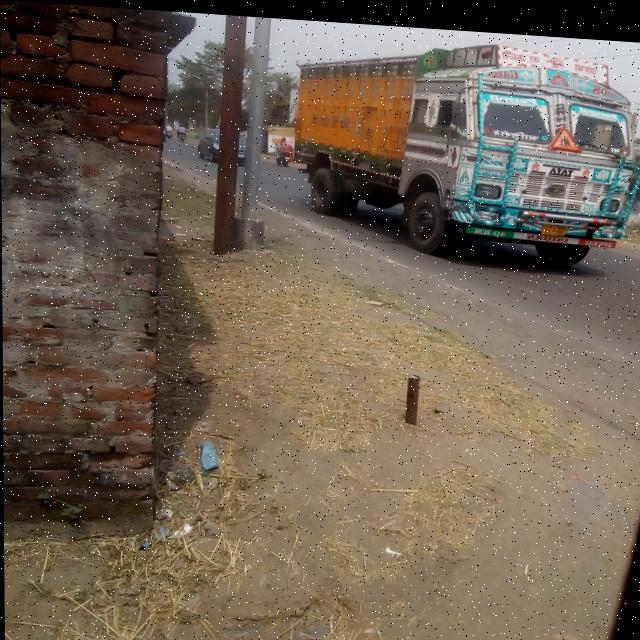plate: (539, 214, 568, 230)
